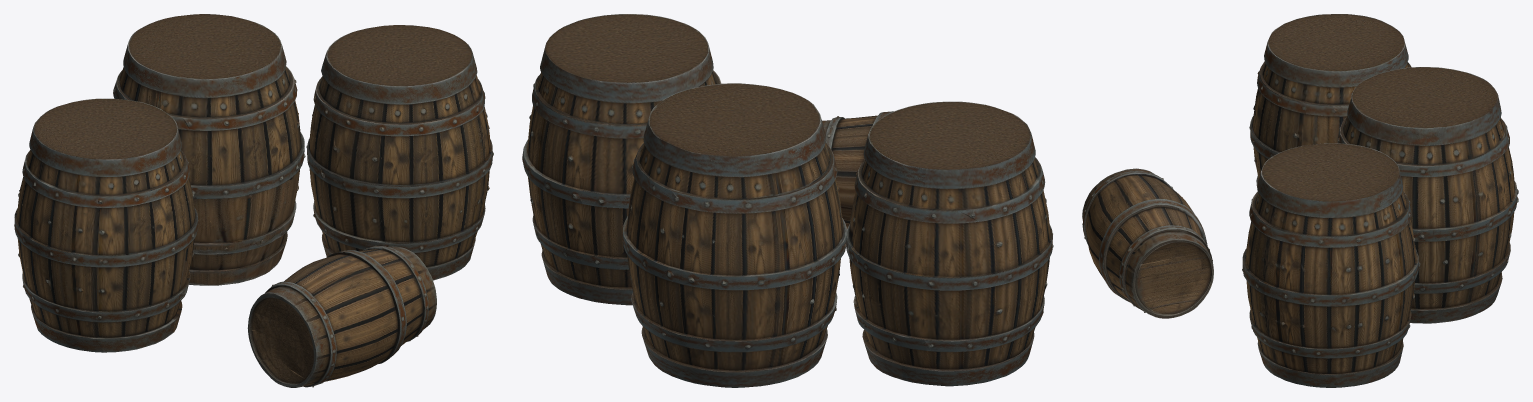
3 renders of one model, left to right at view 1: azimuth 30°, elevation 25°; view 2: azimuth 150°, elevation 25°; view 3: azimuth 270°, elevation 25°, orthographic. The views are drawn at different scales.
Bounding box in the file's own units: 1.9 × 0.8334 × 1.69.
1 material, 1 textured.
